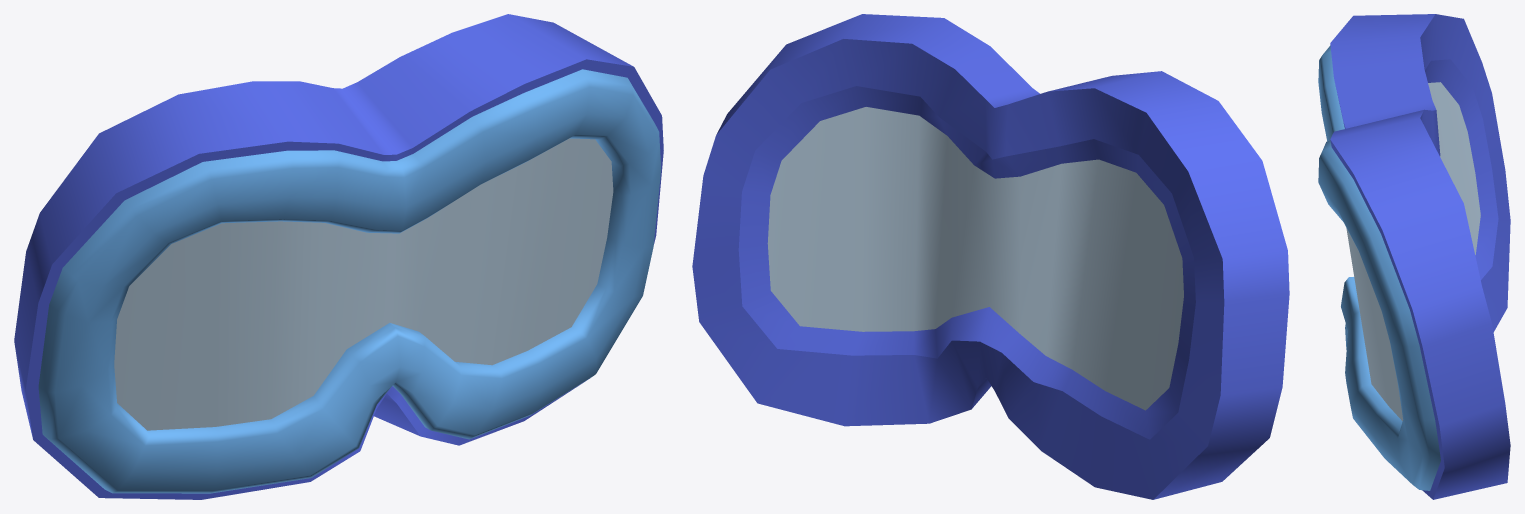
Rendered from Glasses_16_01.fbx.
The picture shows the model from 3 angles, left to right: view 1: azimuth 30°, elevation 25°; view 2: azimuth 150°, elevation 25°; view 3: azimuth 270°, elevation 25°; orthographic projection. The views are drawn at different scales.
Visible parts, largest first — view 1: Glasses_16_01; view 2: Glasses_16_01; view 3: Glasses_16_01.
Boxes of the visible parts, <box> form: Glasses_16_01: <box>14,14,663,499</box>; Glasses_16_01: <box>692,14,1289,499</box>; Glasses_16_01: <box>1318,14,1510,499</box>.
Bounding box in the file's own units: 25.81 × 15.59 × 8.18.
